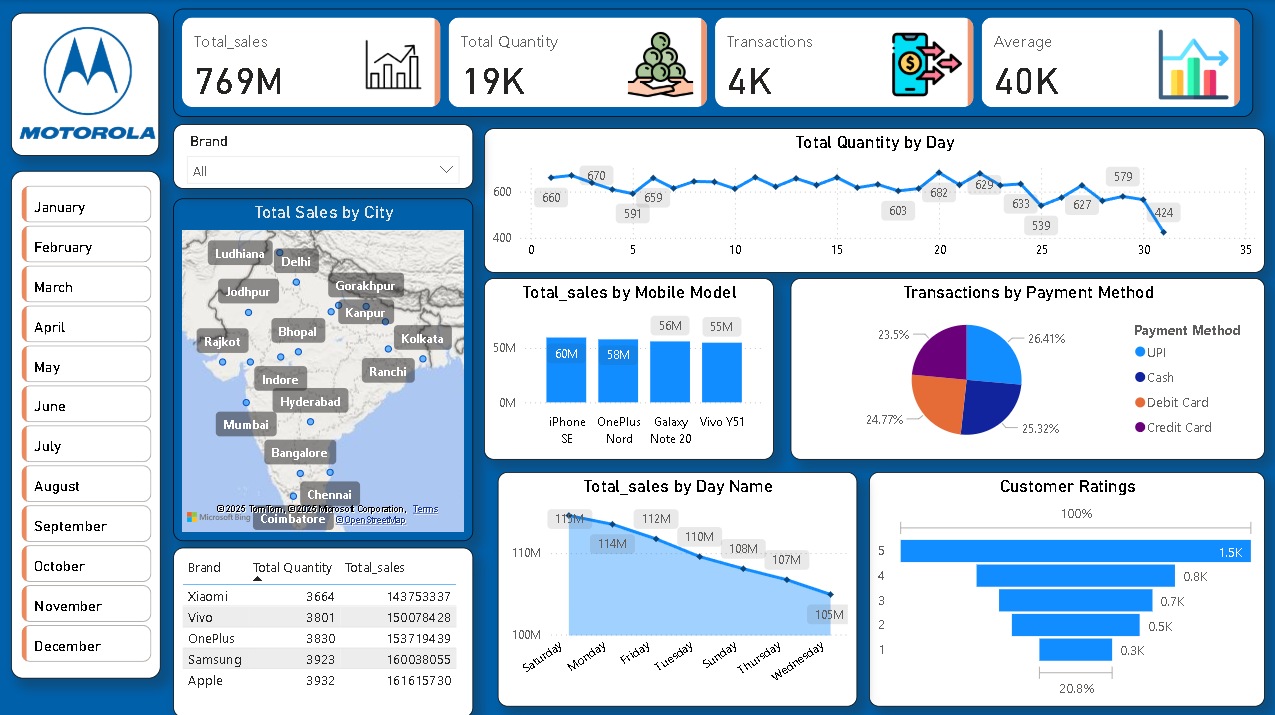

The dashboard page shown, as its layout file describes it:
{"tool":"powerbi","page":{"name":"Page 1","canvas":[1280,720],"ordinal":0},"visuals":[{"type":"shape","box":[11.7,13.3,148.3,143.3],"z":0},{"type":"image","box":[12,10.6,150.3,146.3],"z":1000},{"type":"shape","box":[11.7,171.7,150,508.3],"z":2000},{"type":"advancedSlicerVisual","fields":{"Values":["Day30_Sales_Data.Date.Variation.Date Hierarchy.Month"]},"box":[16.7,181.7,140,490],"z":3000},{"type":"cardVisual","fields":{"Data":["Day30_Sales_Data.Total_sales","Day30_Sales_Data.Total Quantity","Day30_Sales_Data.Transactions","Day30_Sales_Data.Average"]},"box":[173.3,10,1081.7,108.3],"z":4000},{"type":"map","fields":{"Category":["Day30_Sales_Data.City"]},"box":[173.3,200,300,343.3],"z":5000},{"type":"lineChart","fields":{"Y":["Day30_Sales_Data.Total Quantity"],"Category":["Day30_Sales_Data.Date.Variation.Date Hierarchy.Month","Day30_Sales_Data.Date.Variation.Date Hierarchy.Day"]},"box":[485,130,781.7,145],"z":6000},{"type":"clusteredColumnChart","fields":{"Category":["Day30_Sales_Data.Mobile Model"],"Y":["Day30_Sales_Data.Total_sales"]},"box":[485,280,290,181.7],"z":6001},{"type":"pieChart","fields":{"Y":["Day30_Sales_Data.Transactions"],"Category":["Day30_Sales_Data.Payment Method"]},"box":[791.7,280,475,181.7],"z":6002},{"type":"funnel","title":"Customer Ratings","fields":{"Category":["Day30_Sales_Data.Customer Ratings"],"Y":["CountNonNull(Day30_Sales_Data.Customer Ratings)"]},"box":[870,473.3,396.7,235],"z":6003},{"type":"areaChart","fields":{"Category":["Day30_Sales_Data.Day Name"],"Y":["Day30_Sales_Data.Total_sales"]},"box":[498.3,473.3,360,235],"z":6004},{"type":"tableEx","fields":{"Values":["Day30_Sales_Data.Brand","Day30_Sales_Data.Total Quantity","Day30_Sales_Data.Total_sales"]},"box":[173.3,550,300,170],"z":6005},{"type":"slicer","fields":{"Values":["Day30_Sales_Data.Brand"]},"box":[173.3,125,300,65],"z":6006}]}

Visuals, with their boxes in screenshot pixels (x1, y1, x2, y2), scaled from the page's 1280x720 canvas onto the 1275x715 screenshot:
shape: [left=12, top=13, right=159, bottom=156]
image: [left=12, top=11, right=162, bottom=156]
shape: [left=12, top=171, right=161, bottom=675]
advancedSlicerVisual - Day30_Sales_Data.Date.Variation.Date Hierarchy.Month: [left=17, top=180, right=156, bottom=667]
cardVisual - Day30_Sales_Data.Total_sales x Day30_Sales_Data.Total Quantity: [left=173, top=10, right=1250, bottom=117]
map - Day30_Sales_Data.City: [left=173, top=199, right=471, bottom=540]
lineChart - Day30_Sales_Data.Total Quantity x Day30_Sales_Data.Date.Variation.Date Hierarchy.Month: [left=483, top=129, right=1262, bottom=273]
clusteredColumnChart - Day30_Sales_Data.Mobile Model x Day30_Sales_Data.Total_sales: [left=483, top=278, right=772, bottom=458]
pieChart - Day30_Sales_Data.Transactions x Day30_Sales_Data.Payment Method: [left=789, top=278, right=1262, bottom=458]
"Customer Ratings" funnel: [left=867, top=470, right=1262, bottom=703]
areaChart - Day30_Sales_Data.Day Name x Day30_Sales_Data.Total_sales: [left=496, top=470, right=855, bottom=703]
tableEx - Day30_Sales_Data.Brand x Day30_Sales_Data.Total Quantity: [left=173, top=546, right=471, bottom=714]
slicer - Day30_Sales_Data.Brand: [left=173, top=124, right=471, bottom=189]
